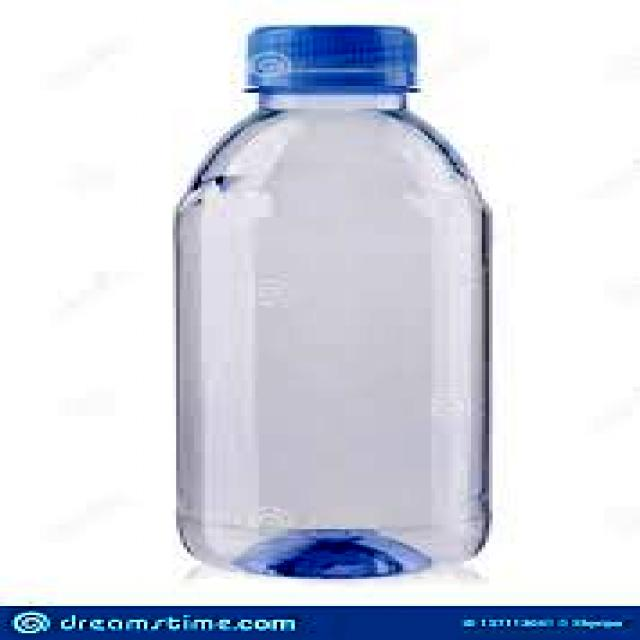Plastic: (166, 19, 491, 582)
